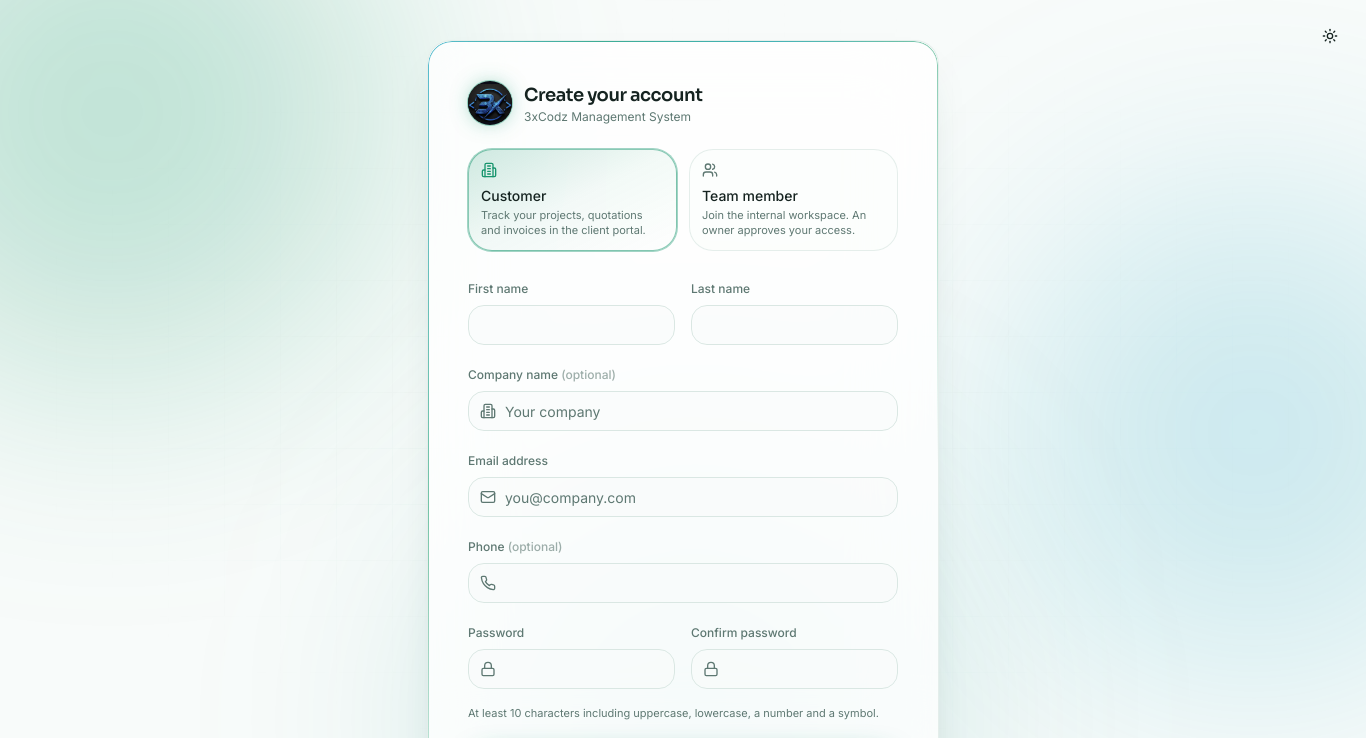
it: Register › defaults to a customer account and hides the company field for team members
This screenshot has width=1366, height=738.
Expected: the text "Customer" is shown, [481, 187, 546, 204]
Expected: the field labelled "Company name (optional)" is shown, [468, 391, 898, 431]
Click the text "Team member" at (750,196), box [702, 187, 798, 204]
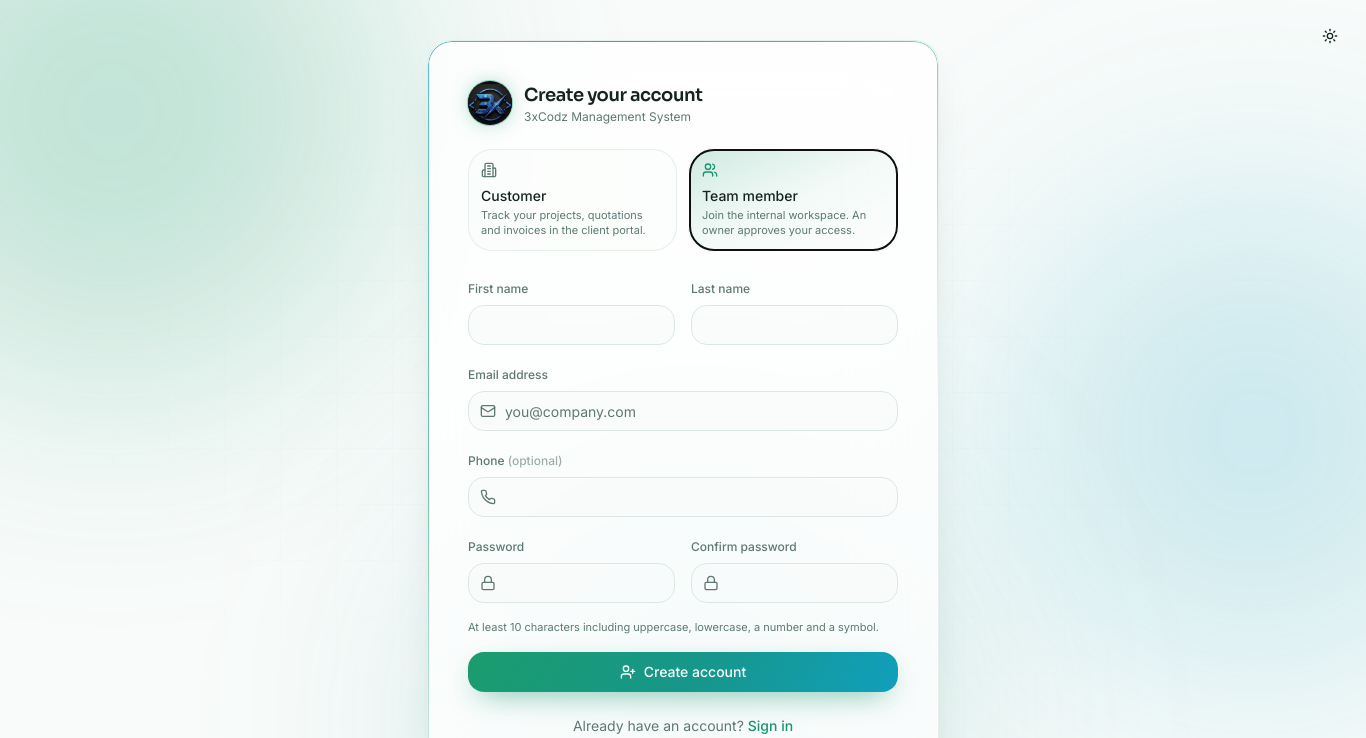
Expected: the label labelled "Company name" is gone
